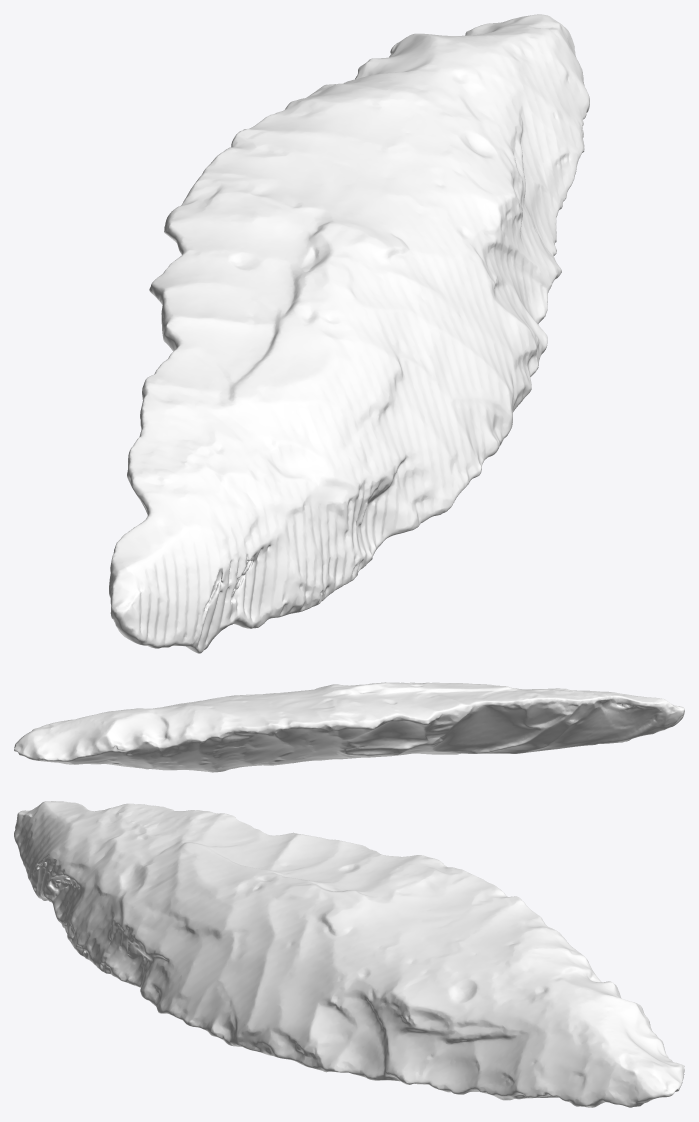
3 renders of one model, top to bottom at view 1: azimuth 30°, elevation 25°; view 2: azimuth 150°, elevation 25°; view 3: azimuth 270°, elevation 25°, orthographic. The views are drawn at different scales.
Visible parts, largest first — view 1: Node; view 2: Node; view 3: Node.
Part boxes in pixels (x1=…): Node: x1=109, y1=14, x2=589, y2=653; Node: x1=14, y1=682, x2=684, y2=772; Node: x1=14, y1=801, x2=684, y2=1107.
Bounding box in the file's own units: 75.69 × 15.74 × 68.91.
Materials: 1 (1 with a texture image).
